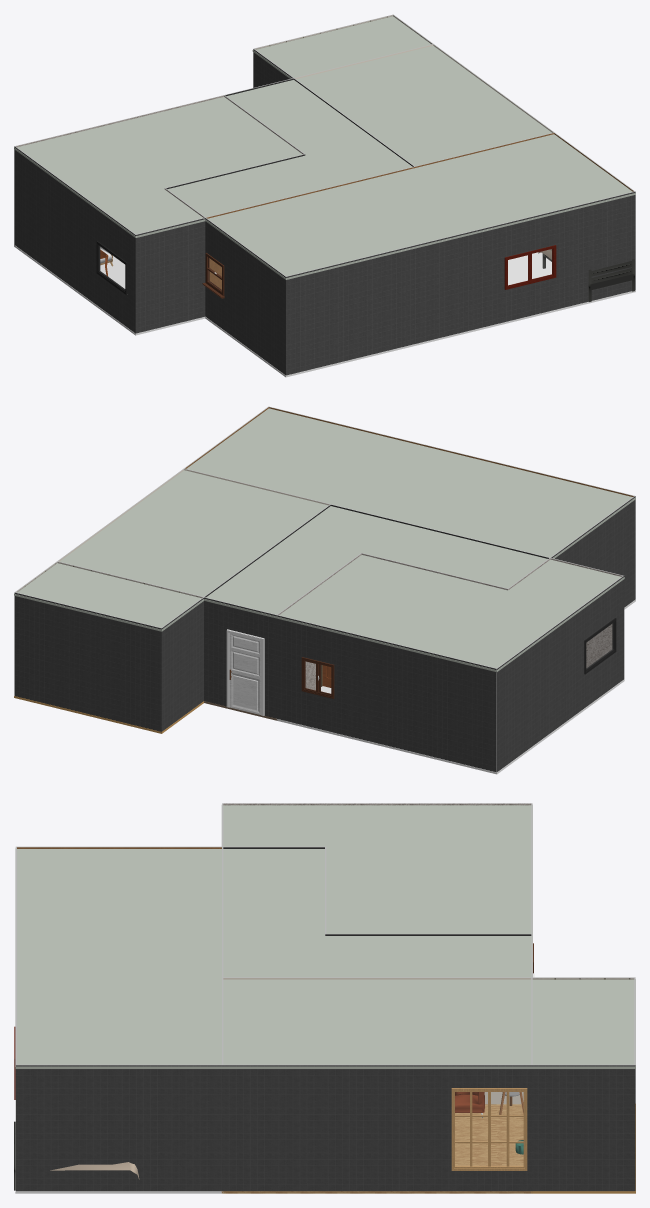
Rendered from ProcTHOR-Train-130.glb.
3 views of the same model, one above another, from view 1: azimuth 30°, elevation 25°; view 2: azimuth 150°, elevation 25°; view 3: azimuth 270°, elevation 25° (orthographic). The views are drawn at different scales.
Visible parts, largest first — view 1: WallInside#wall|exterior|0.00|12.46|10.38|12.46, Ceiling#room|5|c, Ceiling#room|6|c, Ceiling#room|4|c, Ceiling#room|2|c, WallInside#wall|exterior|12.46|2.08|12.46|8.31, WallInside#wall|exterior|10.38|8.31|10.38|12.46, WallInside#wall|exterior|10.38|8.31|12.46|8.31, Ceiling#room|3|c, Floor#room|5|f, Bed_7, Floor#room|6|f (+4 smaller); view 2: Ceiling#room|5|c, Ceiling#room|6|c, WallInside#wall|exterior|6.23|2.08|12.46|2.08, Ceiling#room|4|c, WallInside#wall|exterior|0.00|0.00|4.15|0.00, Ceiling#room|2|c, WallInside#wall|exterior|12.46|2.08|12.46|8.31, Ceiling#room|3|c, WallInside#wall|exterior|4.15|2.08|6.23|2.08, WallInside#wall|exterior|4.15|0.00|4.15|2.08, WallInside#wall|exterior|10.38|8.31|10.38|12.46, Doorway_8 (+5 smaller); view 3: Ceiling#room|5|c, WallInside#wall|exterior|0.00|2.08|0.00|8.31, Ceiling#room|6|c, Ceiling#room|4|c, WallInside#wall|exterior|0.00|8.31|0.00|12.46, Ceiling#room|2|c, WallInside#wall|exterior|0.00|0.00|0.00|2.08, Ceiling#room|3|c, Floor#room|4|f, Window_Fixed_60x72, WallInside#wall|4|4.15|2.08|4.15|8.31, WallInside#wall|6|12.46|2.08|12.46|8.31 (+4 smaller).
Boxes of the visible parts, x1,y1,x2,y2 form: WallInside#wall|exterior|0.00|12.46|10.38|12.46: (286, 191, 635, 375); Ceiling#room|5|c: (205, 134, 635, 279); Ceiling#room|6|c: (14, 97, 302, 237); Ceiling#room|4|c: (296, 46, 551, 167); Ceiling#room|2|c: (165, 80, 413, 218); WallInside#wall|exterior|12.46|2.08|12.46|8.31: (14, 146, 135, 333); WallInside#wall|exterior|10.38|8.31|10.38|12.46: (205, 218, 285, 375); WallInside#wall|exterior|10.38|8.31|12.46|8.31: (135, 218, 205, 333); Ceiling#room|3|c: (252, 16, 431, 79); Floor#room|5|f: (205, 252, 635, 377); Bed_7: (538, 249, 634, 301); Floor#room|6|f: (14, 245, 205, 335); Ceiling#room|5|c: (186, 408, 635, 558); Ceiling#room|6|c: (276, 555, 624, 671); WallInside#wall|exterior|6.23|2.08|12.46|2.08: (276, 615, 496, 772); Ceiling#room|4|c: (59, 470, 327, 596); WallInside#wall|exterior|0.00|0.00|4.15|0.00: (14, 592, 161, 731); Ceiling#room|2|c: (204, 506, 550, 618); WallInside#wall|exterior|12.46|2.08|12.46|8.31: (497, 576, 624, 771); Ceiling#room|3|c: (14, 563, 203, 631); WallInside#wall|exterior|4.15|2.08|6.23|2.08: (204, 597, 276, 718); WallInside#wall|exterior|4.15|0.00|4.15|2.08: (161, 597, 203, 731); WallInside#wall|exterior|10.38|8.31|10.38|12.46: (551, 496, 635, 607); Doorway_8: (226, 629, 264, 715); Ceiling#room|5|c: (15, 848, 223, 1068); WallInside#wall|exterior|0.00|2.08|0.00|8.31: (222, 1065, 532, 1191); Ceiling#room|6|c: (221, 805, 532, 936); Ceiling#room|4|c: (221, 979, 532, 1068); WallInside#wall|exterior|0.00|8.31|0.00|12.46: (16, 1065, 222, 1191); Ceiling#room|2|c: (221, 848, 532, 977); WallInside#wall|exterior|0.00|0.00|0.00|2.08: (531, 1065, 635, 1191); Ceiling#room|3|c: (531, 979, 635, 1068); Floor#room|4|f: (221, 1104, 532, 1193); Window_Fixed_60x72: (451, 1088, 527, 1170); WallInside#wall|4|4.15|2.08|4.15|8.31: (222, 977, 531, 1104); WallInside#wall|6|12.46|2.08|12.46|8.31: (223, 803, 531, 805).
Size of what is drawn, in the model's own units: 12.59 by 2.86 by 12.53.
Materials: 332 (137 with a texture image).
